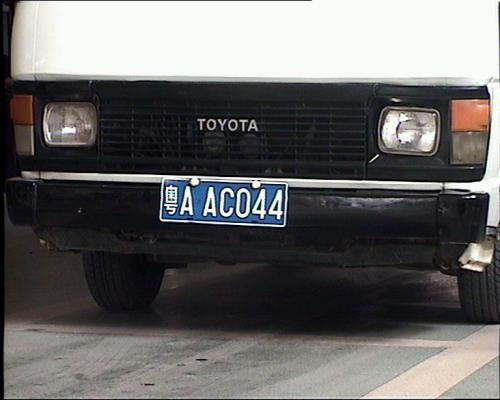Carplate: (156, 167, 294, 238)
